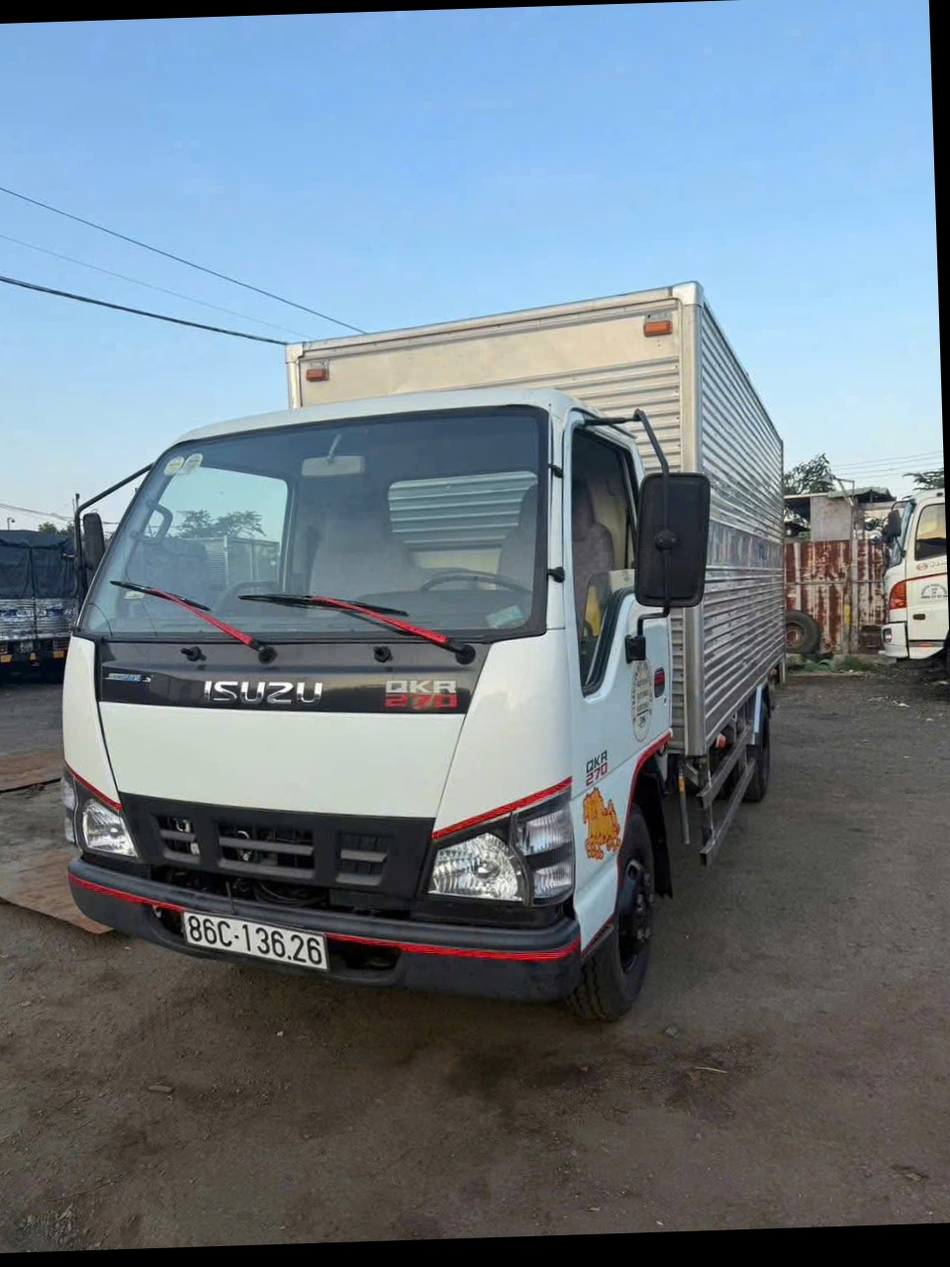Bien-so: (176, 909, 336, 975)
